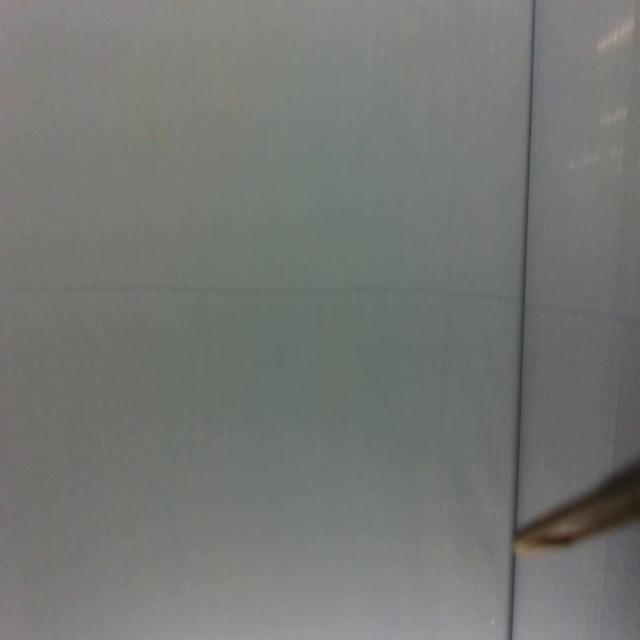color bleeding: (12, 278, 640, 331)
crease: (513, 0, 538, 519), (506, 552, 518, 640)
